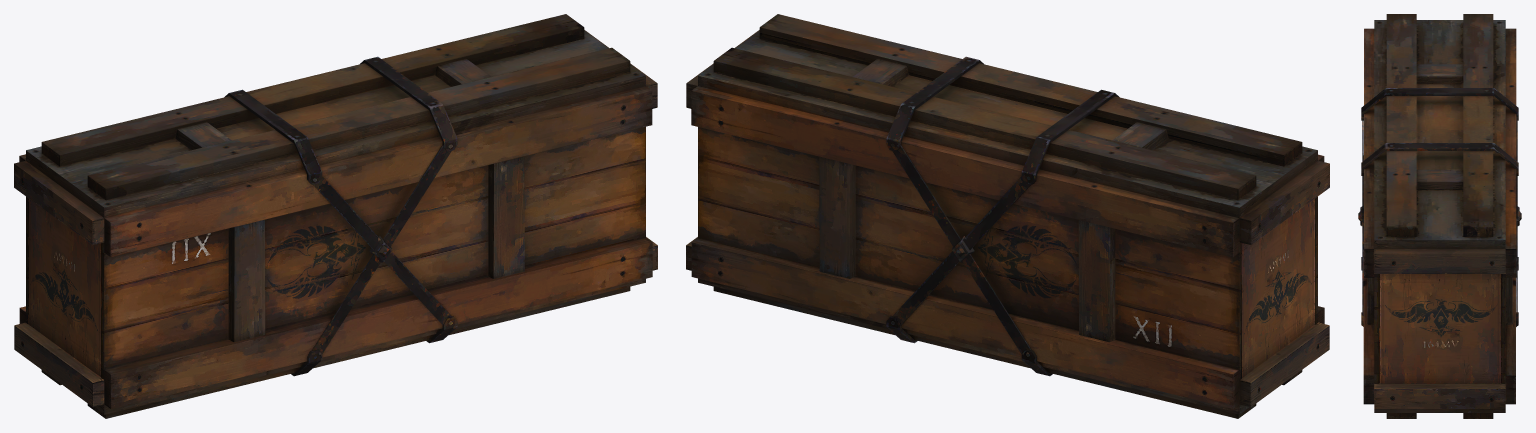
File: crate.fbx
3 renders of one model, left to right at view 1: azimuth 30°, elevation 25°; view 2: azimuth 150°, elevation 25°; view 3: azimuth 270°, elevation 25°, orthographic. The views are drawn at different scales.
Visible parts, largest first — view 1: Crate_01; view 2: Crate_01; view 3: Crate_01.
Part boxes in pixels (<box>): Crate_01: <box>14,14,657,418</box>; Crate_01: <box>686,14,1329,418</box>; Crate_01: <box>1358,14,1521,418</box>.
Size of the model in its own units: 250 by 99.85 by 75.32.
1 material, 1 textured.
